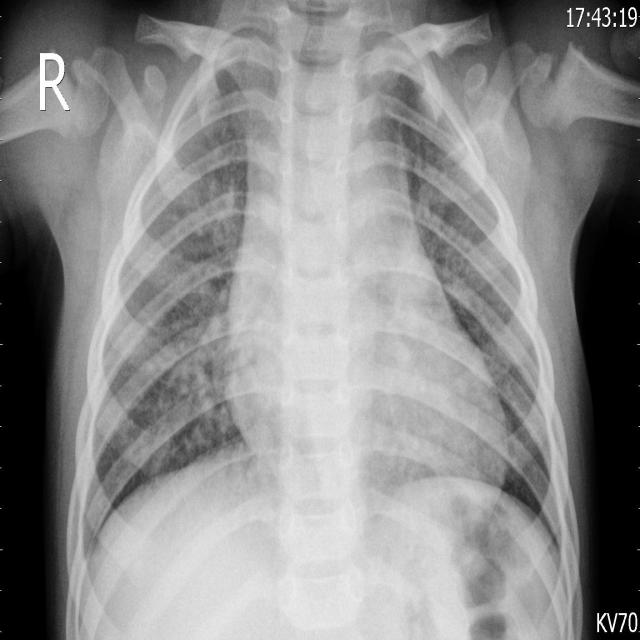low-pneumonia: (151, 315, 231, 447)
